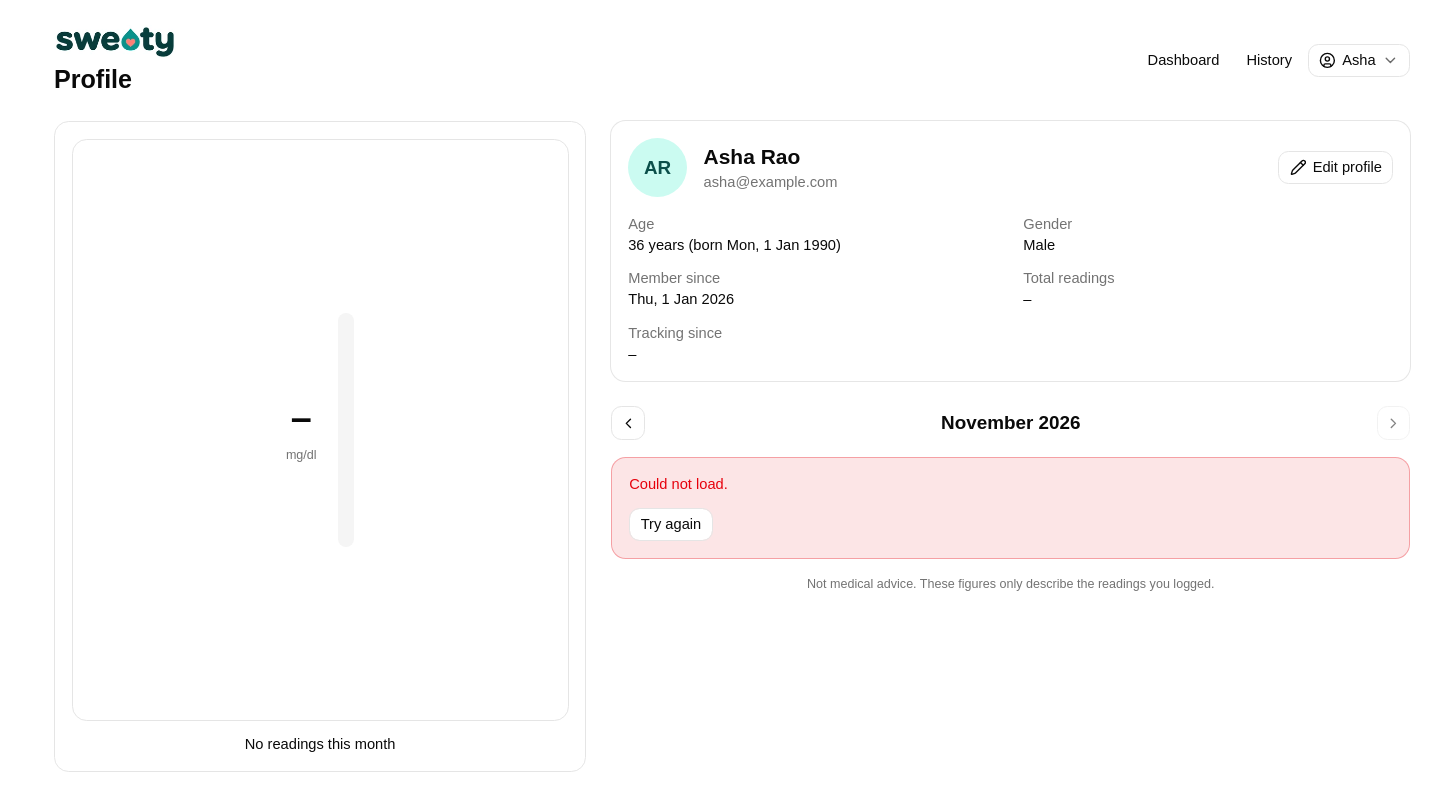
loading and errors › shows the error with a retry
Expected: the message shows "Could not load.", 629,476 -> 728,492
Step 1. Click the button "Try again" → click(671, 525), box 629,508 -> 713,541
(page scrolled)
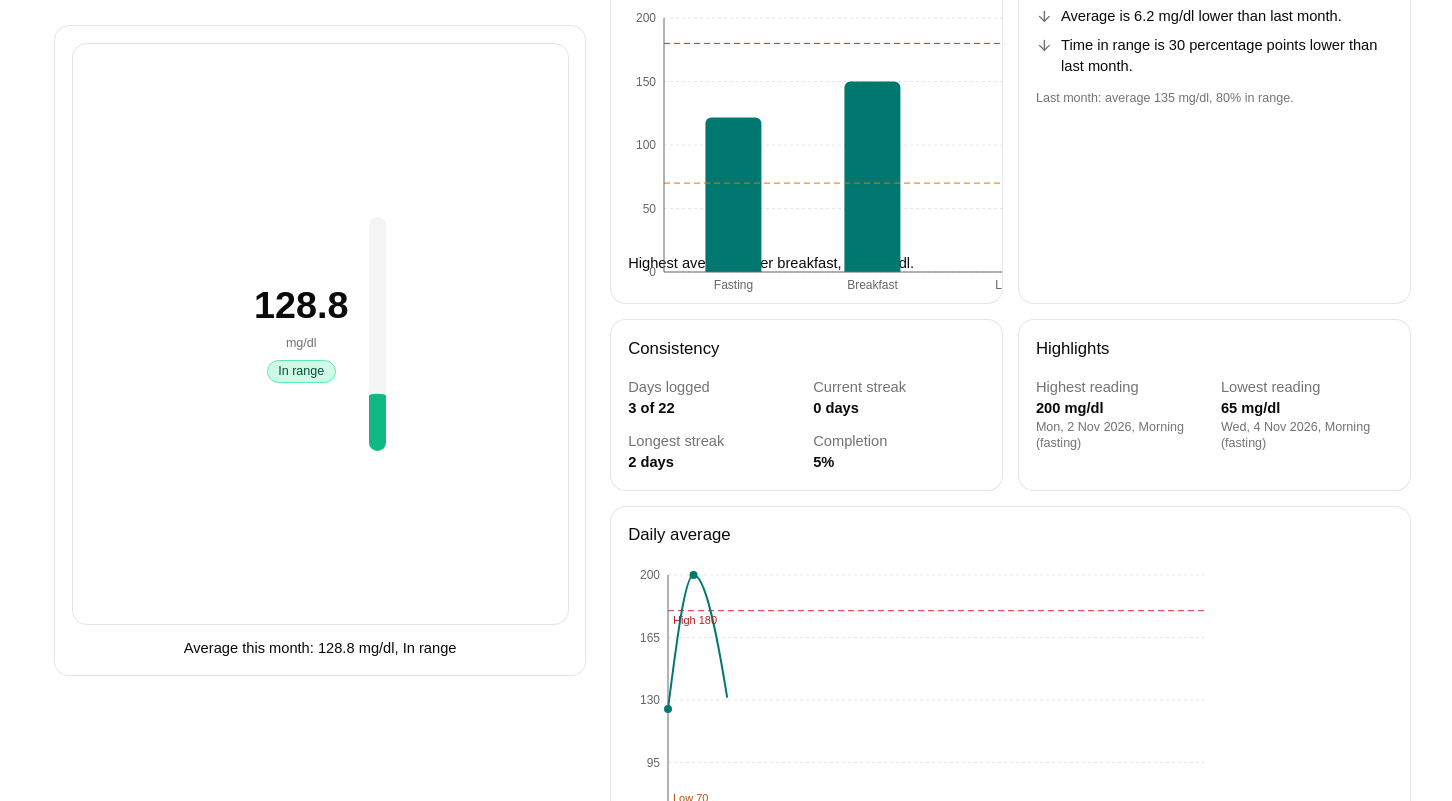
Now the element "Consistency" is shown, box 612,320 -> 1002,490
